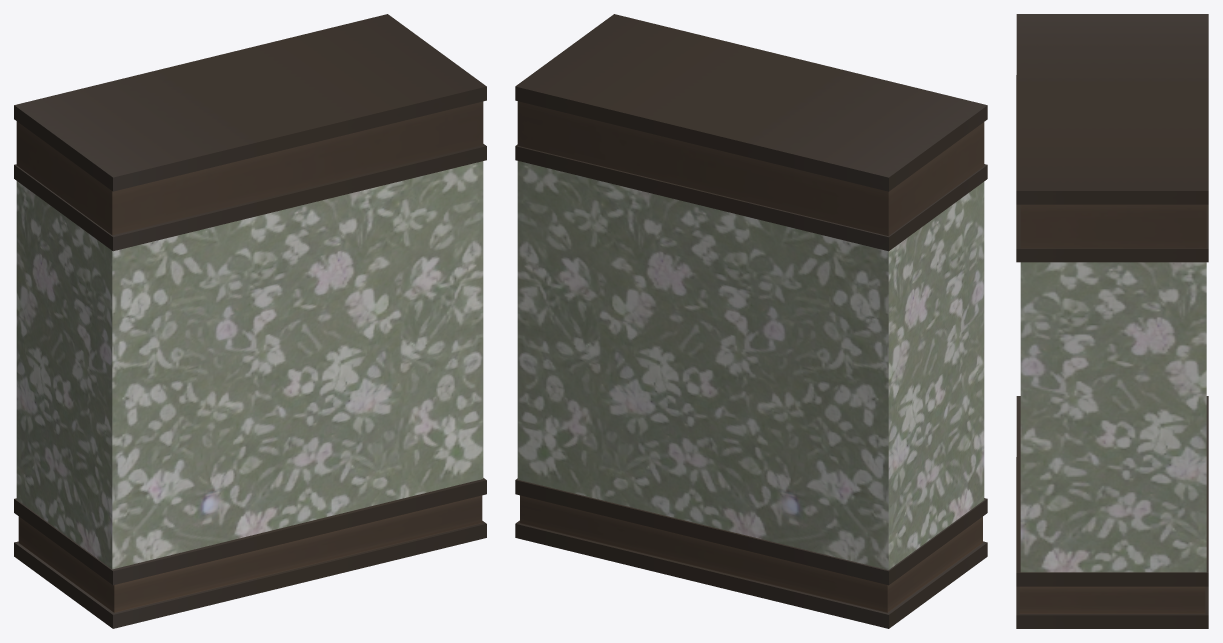
The model's file is kitcentop03ba.fbx.
3 views of the same model, side by side, from view 1: azimuth 30°, elevation 25°; view 2: azimuth 150°, elevation 25°; view 3: azimuth 270°, elevation 25° (orthographic). The views are drawn at different scales.
Parts seen in each view (by area): view 1: kitcentop03ba; view 2: kitcentop03ba; view 3: kitcentop03ba.
Boxes of the visible parts, left/top/right/bottom form: kitcentop03ba: left=14, top=14, right=486, bottom=628; kitcentop03ba: left=515, top=14, right=987, bottom=628; kitcentop03ba: left=1016, top=14, right=1208, bottom=628.
Bounding box in the file's own units: 0.9336 × 1.08 × 0.4287.
